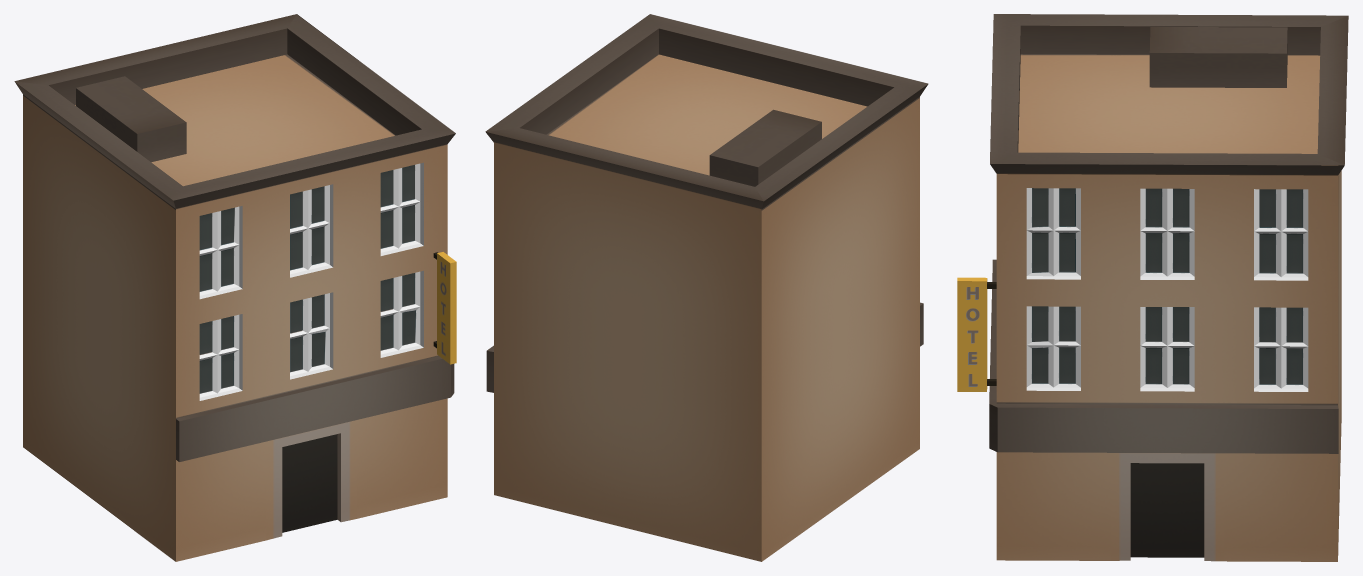
File: Hotel_UV_Color.fbx
3 views of the same model, side by side, from view 1: azimuth 30°, elevation 25°; view 2: azimuth 150°, elevation 25°; view 3: azimuth 270°, elevation 25° (orthographic). The views are drawn at different scales.
Parts seen in each view (by area): view 1: Hotel_UV_Color; view 2: Hotel_UV_Color; view 3: Hotel_UV_Color.
Part boxes in pixels (x1=…): Hotel_UV_Color: x1=14, y1=14, x2=456, y2=561; Hotel_UV_Color: x1=485, y1=14, x2=928, y2=561; Hotel_UV_Color: x1=957, y1=14, x2=1348, y2=561.
Size of the model in its own units: 1749 by 2170 by 1897.
